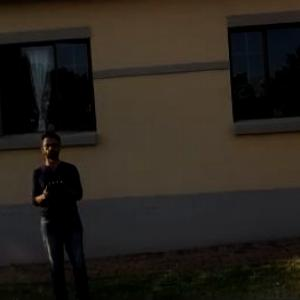follow: (28, 121, 100, 299)
